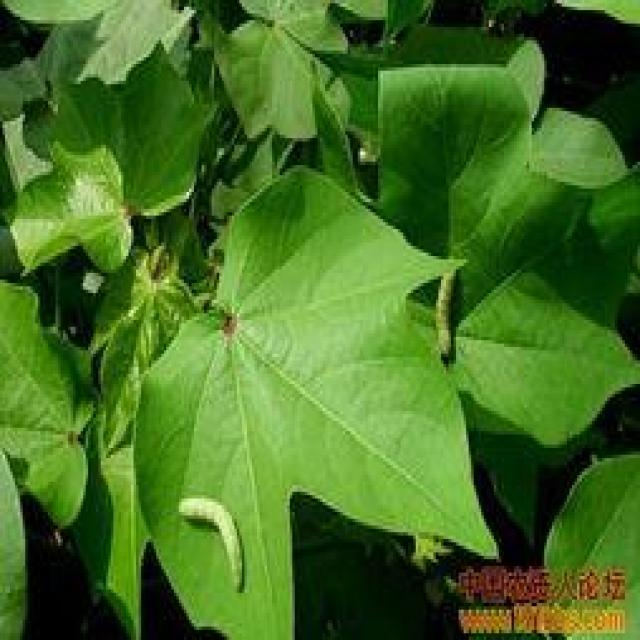BeetArmyWorm-Larva-: (168, 491, 249, 598), (431, 246, 462, 359)
